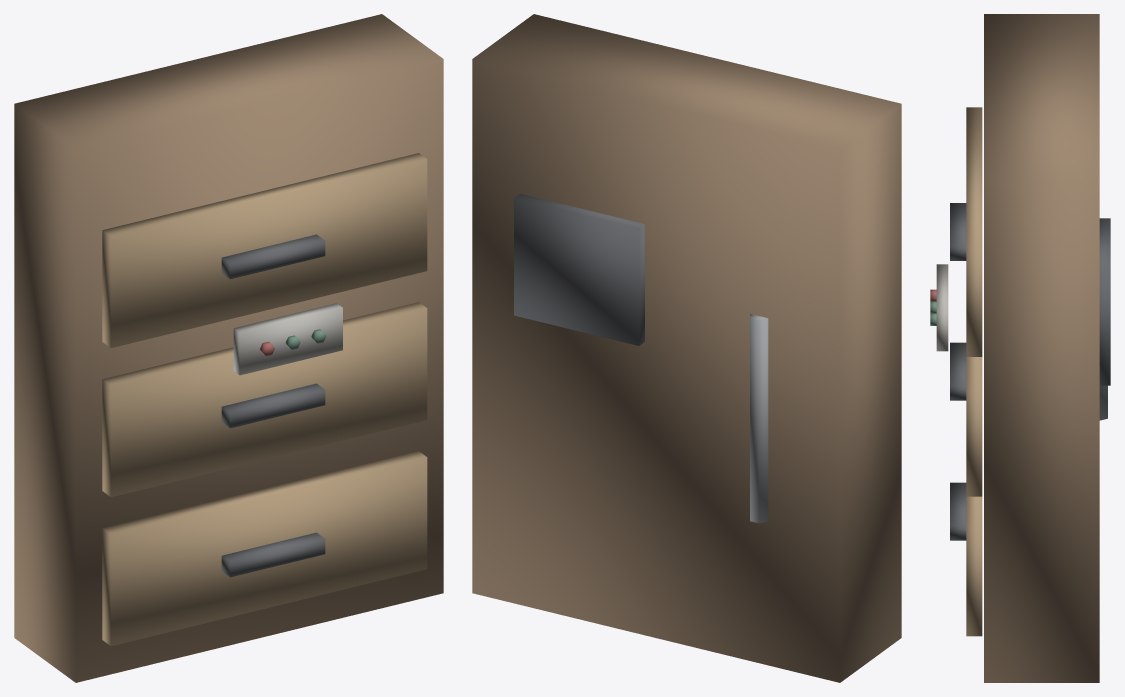
File: medicine_cabinet__service.glb
The picture shows the model from 3 angles, left to right: view 1: azimuth 30°, elevation 25°; view 2: azimuth 150°, elevation 25°; view 3: azimuth 270°, elevation 25°; orthographic projection. The views are drawn at different scales.
Parts seen in each view (by area): view 1: world; view 2: world; view 3: world.
Part boxes in pixels (x1=…): world: x1=14, y1=14, x2=443, y2=682; world: x1=472, y1=14, x2=901, y2=682; world: x1=930, y1=14, x2=1110, y2=682.
Bounding box in the file's own units: 0.62 × 0.86 × 0.281.
